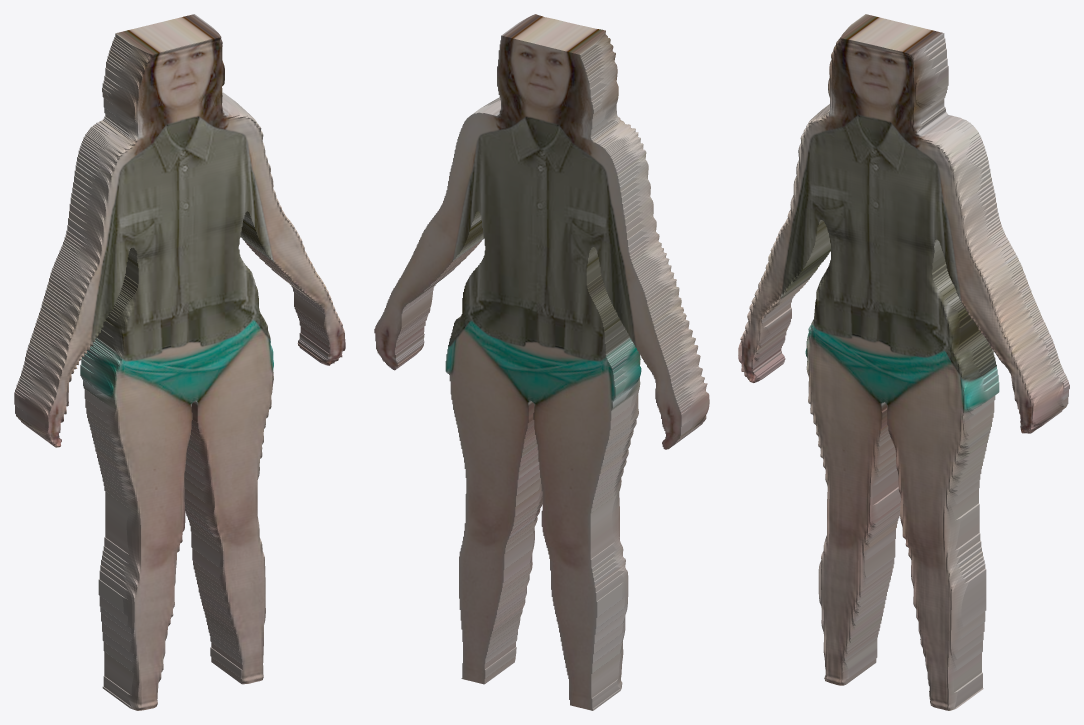
File: avatar_193003.glb
The picture shows the model from 3 angles, left to right: view 1: azimuth 30°, elevation 25°; view 2: azimuth 150°, elevation 25°; view 3: azimuth 330°, elevation 25°; orthographic projection.
Visible parts, largest first — view 1: world; view 2: world; view 3: world.
Boxes of the visible parts, <box> form: world: <box>14,14,345,710</box>; world: <box>374,14,709,710</box>; world: <box>738,14,1069,710</box>.
Size of the model in its own units: 70.49 by 143 by 13.45.
